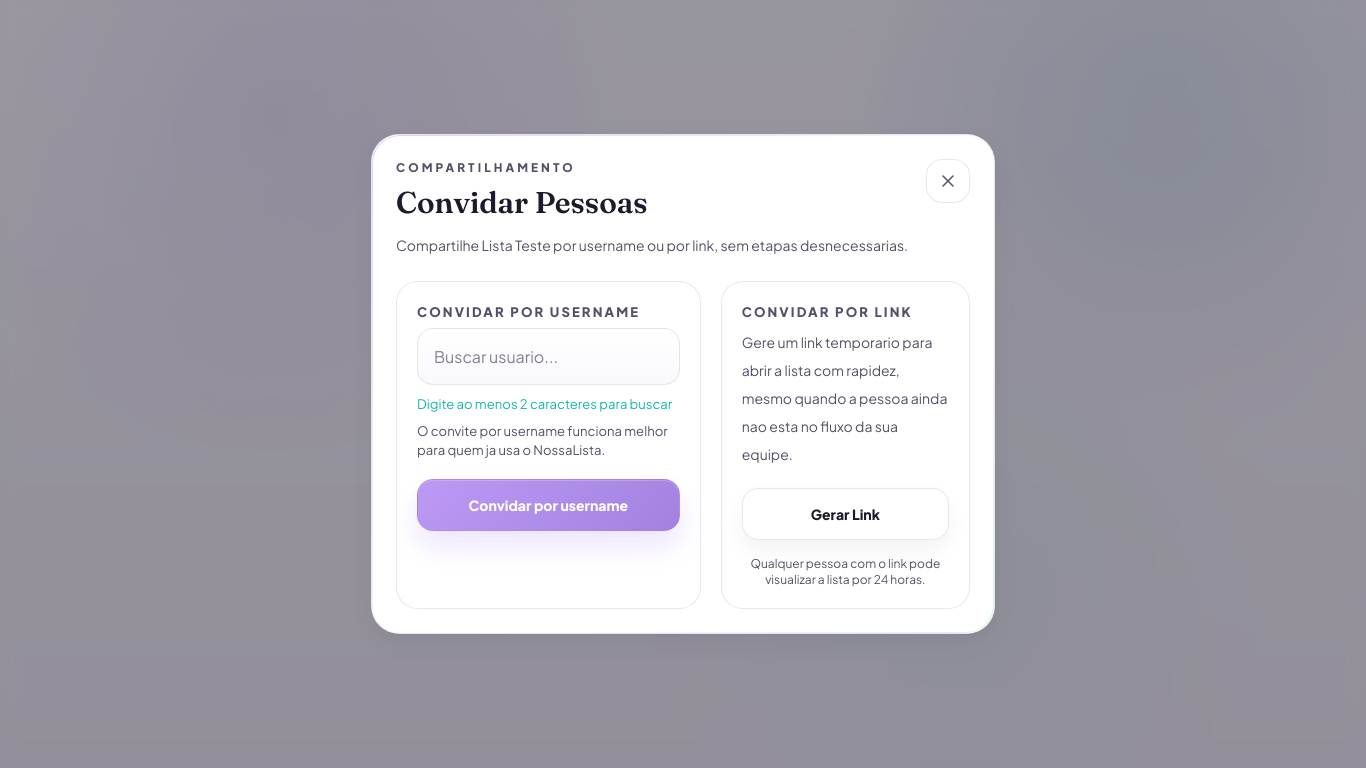
Test: InviteModal - convite por username › gera link e exibe o link ativo
Click the button "Gerar Link" at (845, 514), box 742,488 -> 949,540
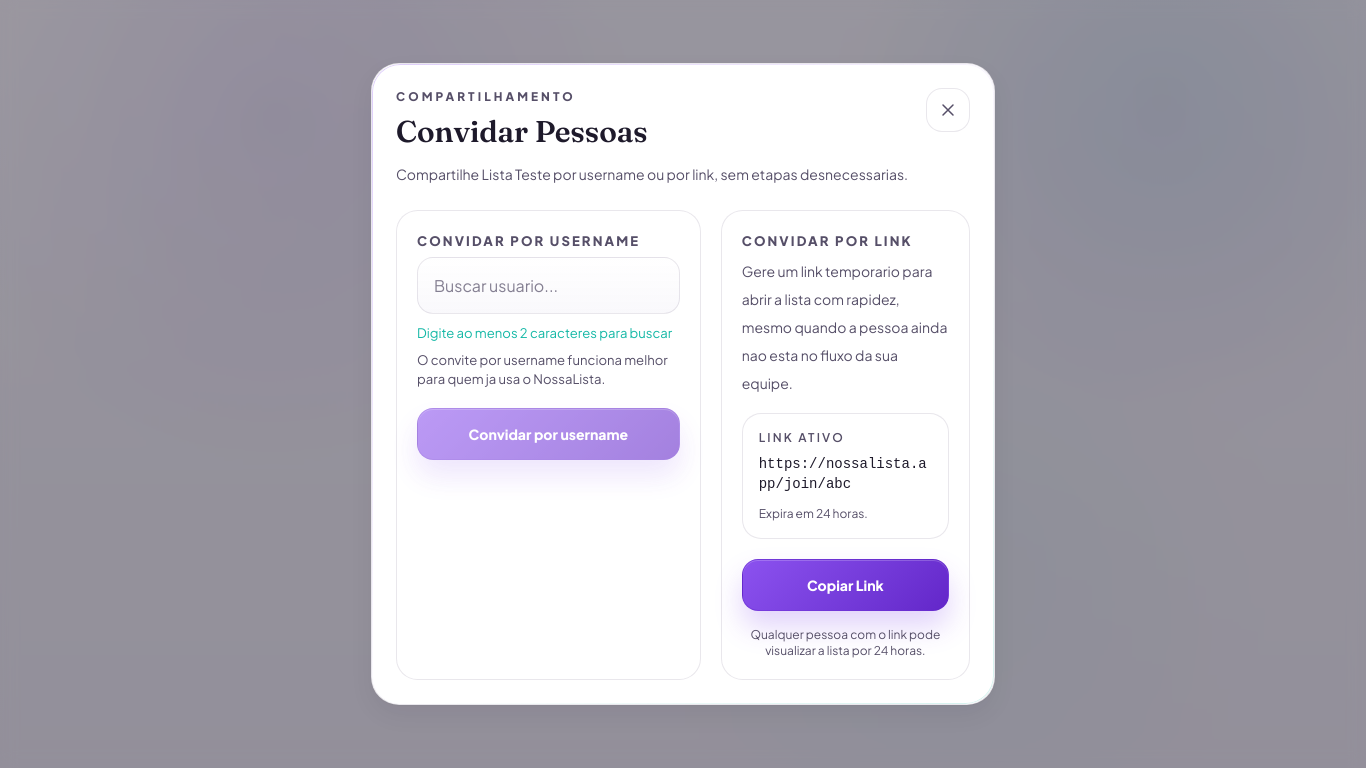
Check: the text "https://nossalista.app/join/abc" is shown, box 759,454 -> 932,494
Check: the text "Link ativo" is shown, box 759,430 -> 845,445
Check: the button "Copiar Link" is shown, box 742,559 -> 949,611
